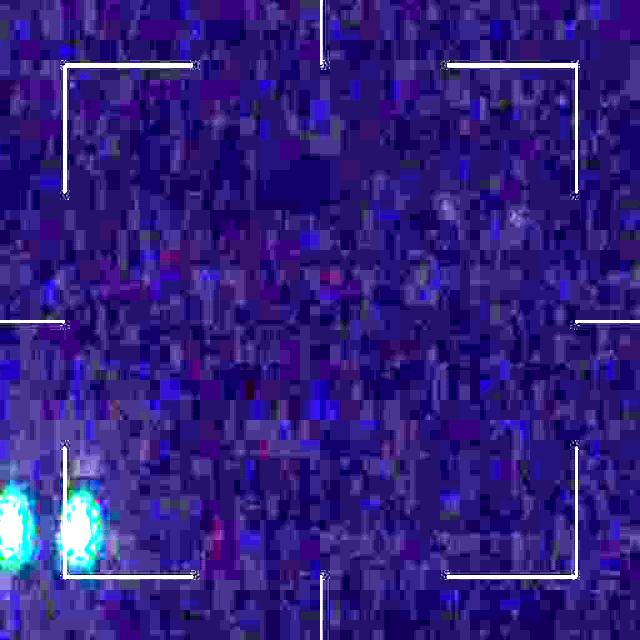bird: (0, 500, 94, 552)
